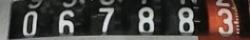digits: (58, 9, 74, 37), (217, 8, 233, 36), (138, 6, 155, 32), (178, 6, 194, 32), (22, 10, 38, 34), (98, 7, 114, 30)
